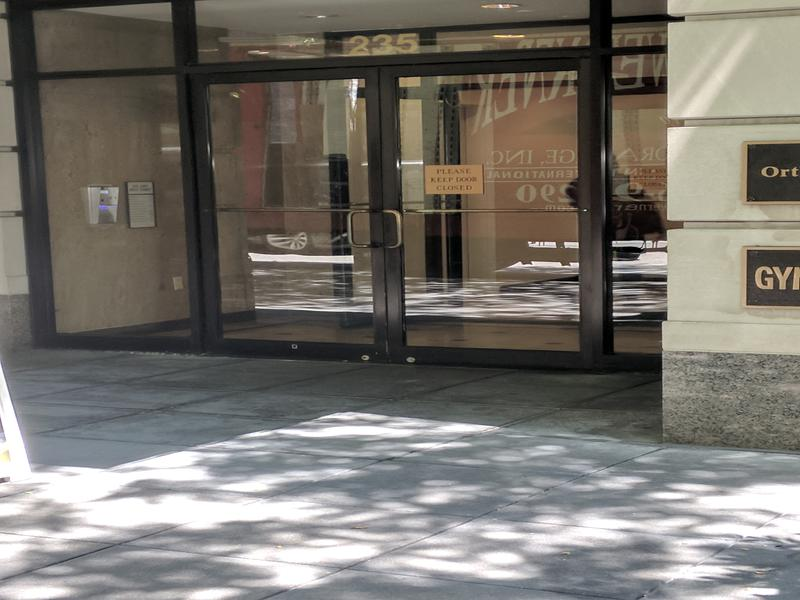double_door: (183, 53, 617, 366)
